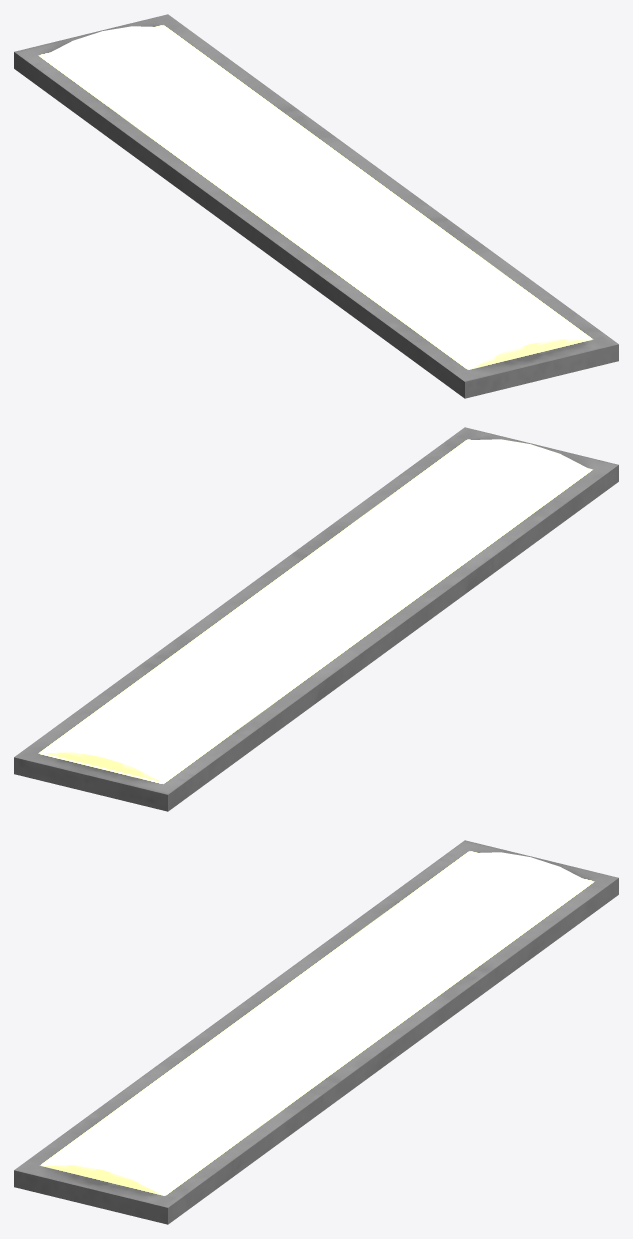
The model's file is PROP_101_Fluorescent.fbx.
3 renders of one model, top to bottom at view 1: azimuth 30°, elevation 25°; view 2: azimuth 150°, elevation 25°; view 3: azimuth 330°, elevation 25°, orthographic.
Visible parts, largest first — view 1: Fluorescente; view 2: Fluorescente; view 3: Fluorescente.
Part boxes in pixels (x1=…): Fluorescente: x1=14, y1=14, x2=618, y2=398; Fluorescente: x1=14, y1=427, x2=618, y2=811; Fluorescente: x1=14, y1=840, x2=618, y2=1224.
Size of the model in its own units: 0.2954 by 0.05 by 1.5.
Materials: 1 (1 with a texture image).
